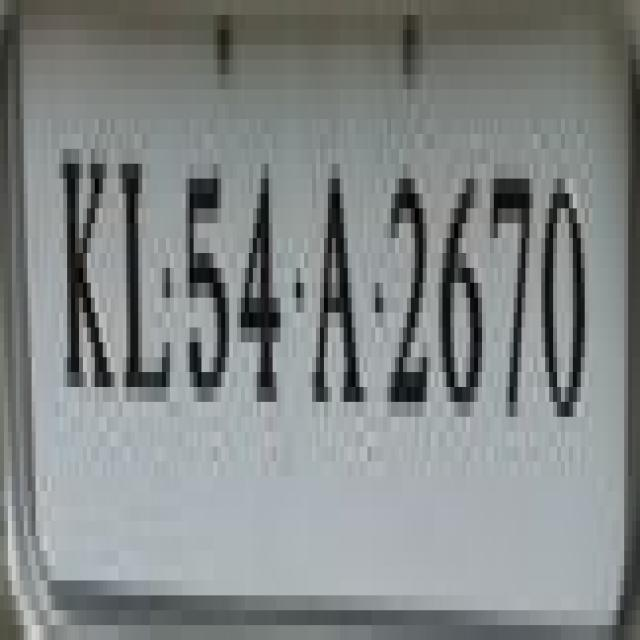0: (540, 173, 595, 449)
4: (233, 166, 283, 437)
5: (183, 154, 230, 439)
6: (434, 166, 485, 424)
7: (488, 144, 536, 443)
A: (312, 147, 367, 474)
K: (52, 138, 114, 412)
L: (116, 147, 176, 422)
